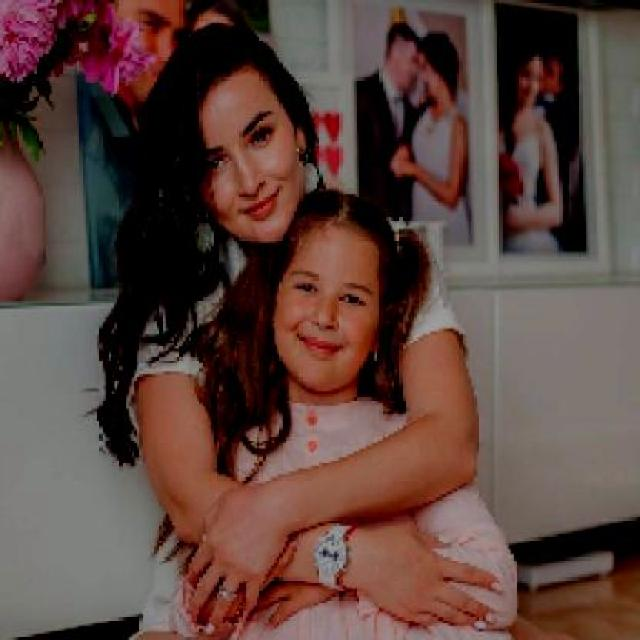child: (165, 188, 521, 638)
